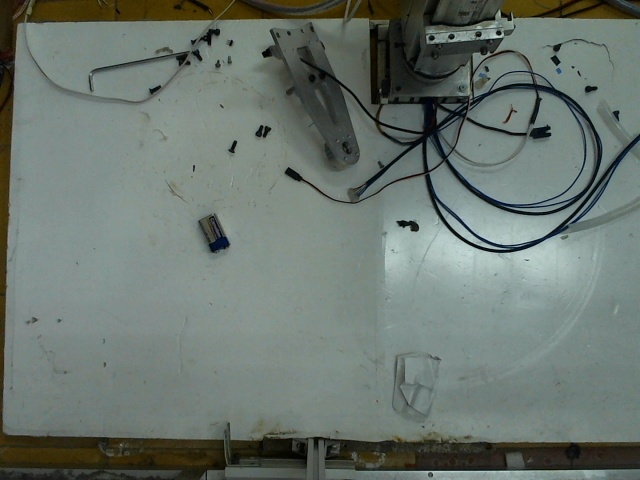battery: (194, 211, 233, 249)
